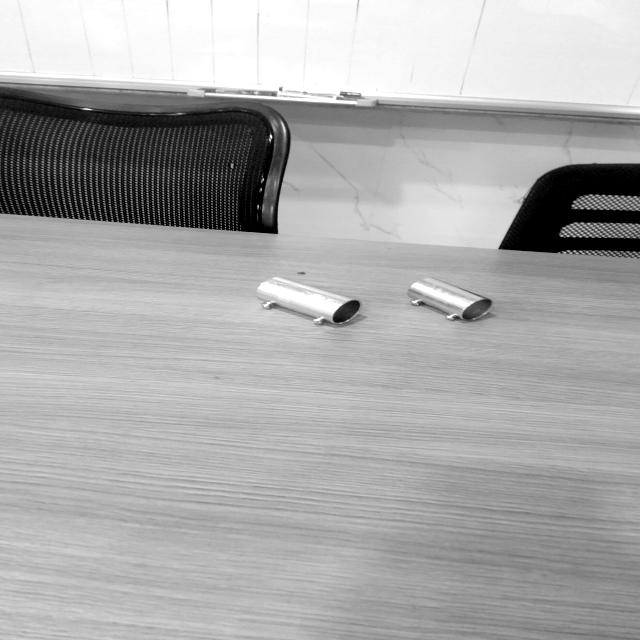Co_Lon: (253, 272, 362, 334)
Co_Nho: (404, 271, 493, 331)
